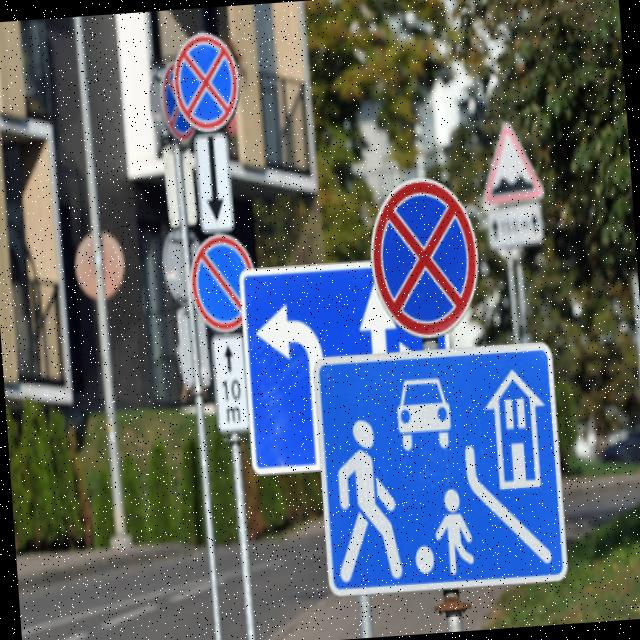no_parking: (364, 166, 485, 348), (168, 29, 244, 134)
